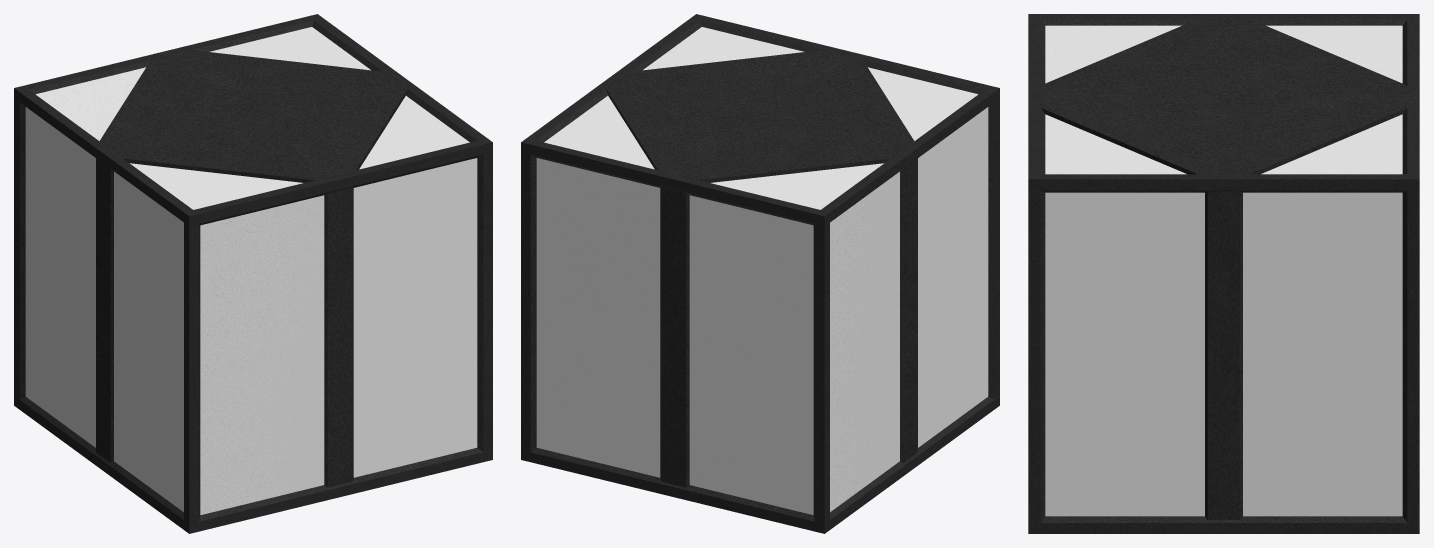
The model's file is movables.dae.
3 views of the same model, side by side, from view 1: azimuth 30°, elevation 25°; view 2: azimuth 150°, elevation 25°; view 3: azimuth 270°, elevation 25° (orthographic). The views are drawn at different scales.
Parts seen in each view (by area): view 1: cobe_movable_L_Mi_Glass, cobe_movable_L, cobe_movable_L_Mi_Col, cobe_movable_L_Mi; view 2: cobe_movable_L_Mi_Glass, cobe_movable_L_Mi_Col, cobe_movable_L, cobe_movable_L_Mi; view 3: cobe_movable_L_Mi_Glass, cobe_movable_L_Mi_Col, cobe_movable_L_Mi, cobe_movable_L.
Boxes of the visible parts, x1,y1,x2,y2 form: cobe_movable_L_Mi_Glass: (25, 27, 477, 511); cobe_movable_L: (25, 27, 469, 514); cobe_movable_L_Mi_Col: (96, 48, 410, 487); cobe_movable_L_Mi: (14, 14, 492, 533); cobe_movable_L_Mi_Glass: (536, 27, 988, 514); cobe_movable_L_Mi_Col: (603, 50, 917, 487); cobe_movable_L: (536, 27, 977, 514); cobe_movable_L_Mi: (521, 14, 999, 533); cobe_movable_L_Mi_Glass: (1045, 25, 1402, 516); cobe_movable_L_Mi_Col: (1032, 15, 1417, 519); cobe_movable_L_Mi: (1028, 14, 1419, 533); cobe_movable_L: (1045, 25, 1402, 515).
Size of the model in its own units: 2 by 2 by 2.
Materials: 2 (2 with a texture image).
